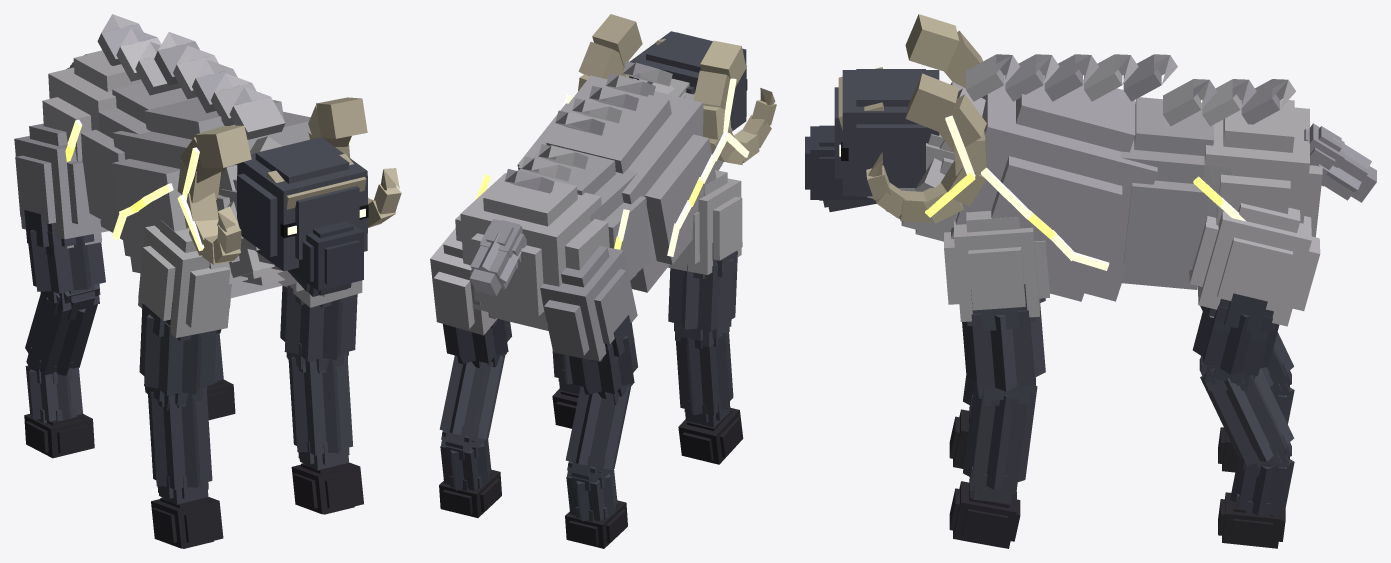
The picture shows the model from 3 angles, left to right: view 1: azimuth 30°, elevation 25°; view 2: azimuth 150°, elevation 25°; view 3: azimuth 270°, elevation 25°; orthographic projection. The views are drawn at different scales.
Parts seen in each view (by area): view 1: ThunderRam; view 2: ThunderRam; view 3: ThunderRam.
Boxes of the visible parts, x1=… form: ThunderRam: x1=14, y1=14, x2=401, y2=548; ThunderRam: x1=430, y1=14, x2=776, y2=548; ThunderRam: x1=805, y1=14, x2=1376, y2=548.
Size of the model in its own units: 0.4605 by 0.9227 by 1.06.
